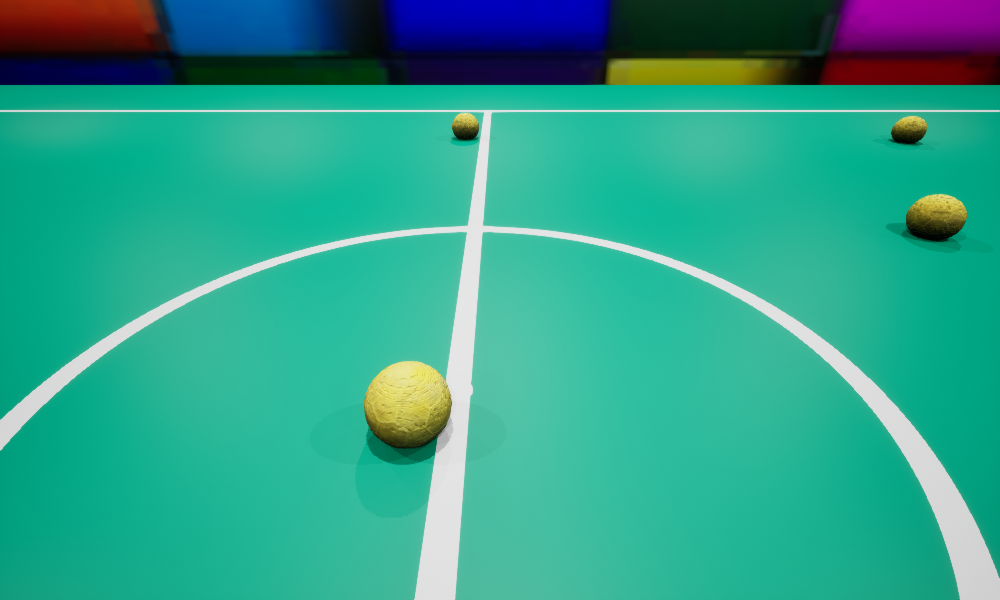b: (364, 361, 451, 448), (906, 194, 966, 239), (891, 116, 926, 143), (452, 113, 478, 139)
